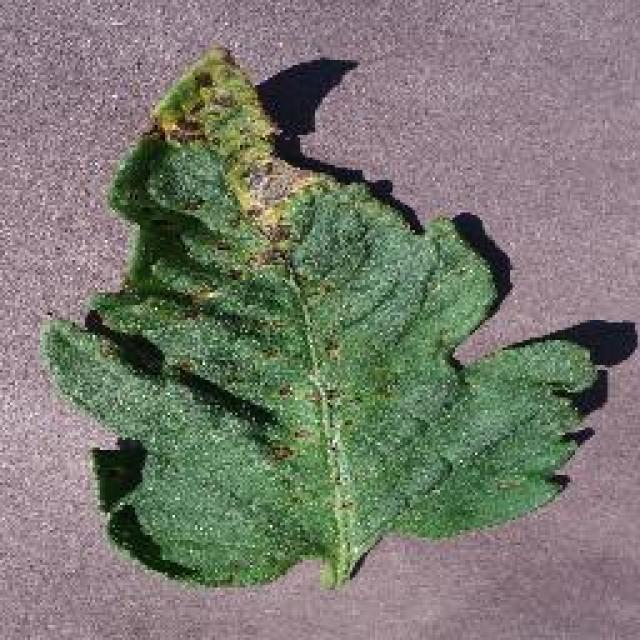Tomato target spot leaf: (40, 46, 602, 589)
